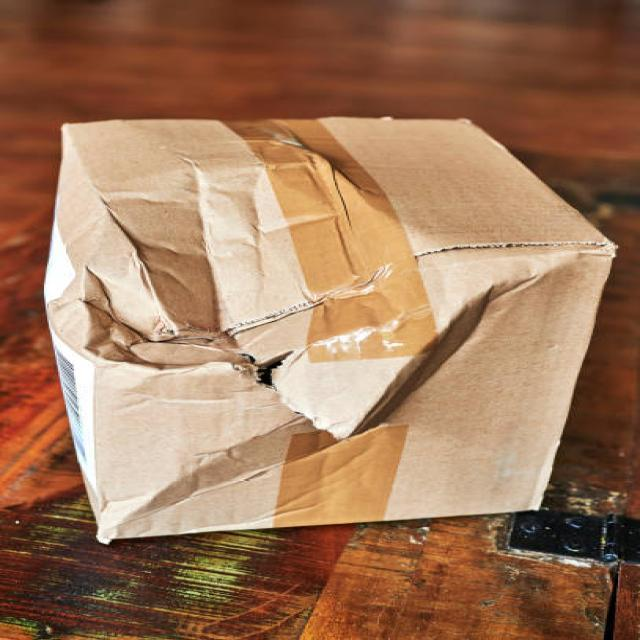box: (44, 117, 616, 537)
crushed: (76, 195, 246, 407), (199, 136, 360, 281), (385, 266, 535, 421), (131, 444, 270, 523)
opened: (244, 318, 380, 449)
